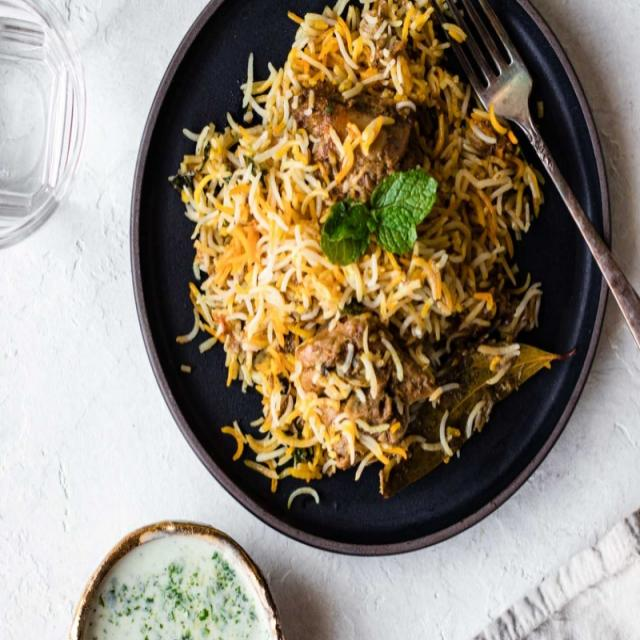Biryani: (168, 3, 570, 479)
